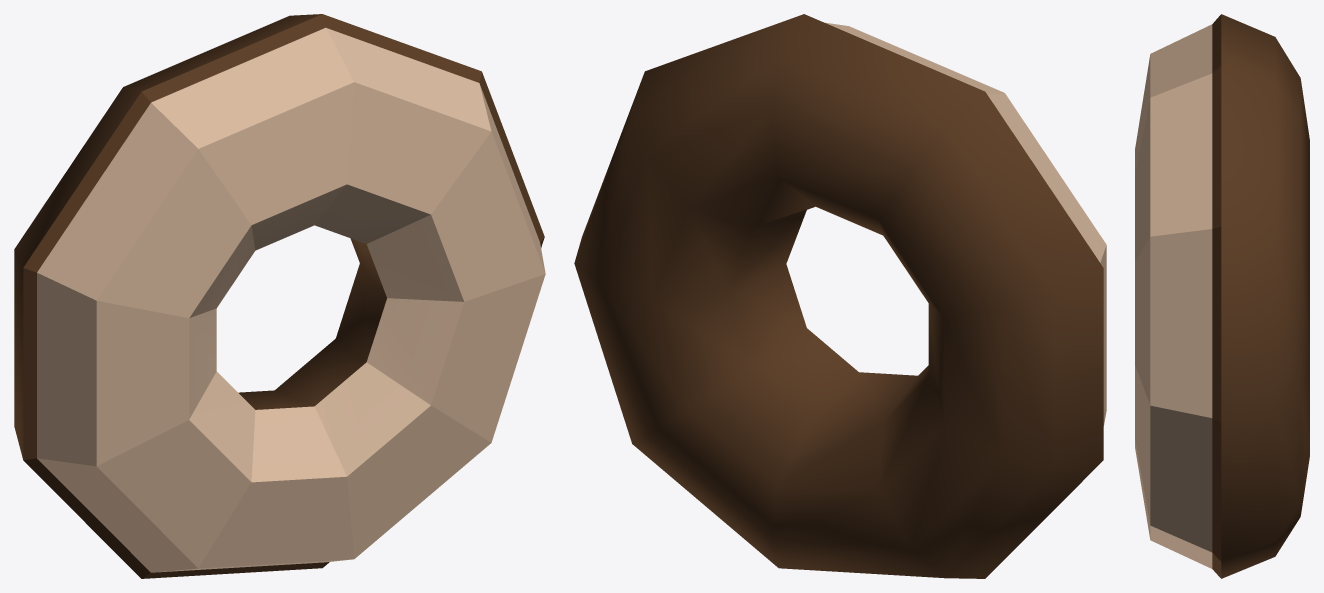
File: Simple_Donut.glb
3 renders of one model, left to right at view 1: azimuth 30°, elevation 25°; view 2: azimuth 150°, elevation 25°; view 3: azimuth 270°, elevation 25°, orthographic. The views are drawn at different scales.
Parts seen in each view (by area): view 1: Simple Donut; view 2: Simple Donut; view 3: Simple Donut.
Boxes of the visible parts, x1=… form: Simple Donut: x1=14, y1=14, x2=545, y2=578; Simple Donut: x1=574, y1=14, x2=1106, y2=578; Simple Donut: x1=1135, y1=14, x2=1309, y2=578.
Size of the model in its own units: 0.1513 by 0.1536 by 0.0474.
2 materials, 1 textured.
